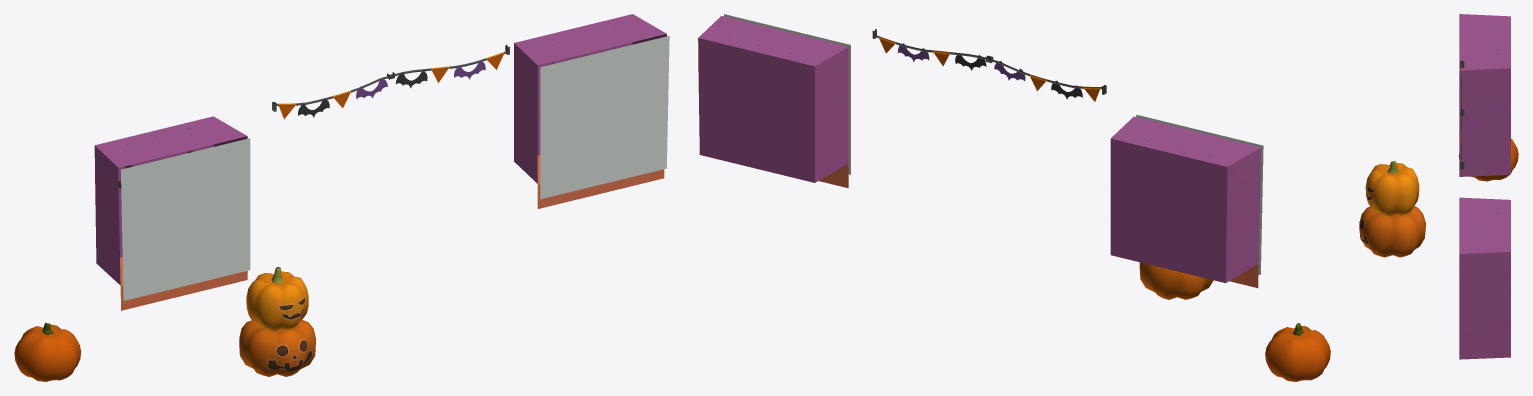
The model's file is shop-deco-halloween.glb.
3 renders of one model, left to right at view 1: azimuth 30°, elevation 25°; view 2: azimuth 150°, elevation 25°; view 3: azimuth 270°, elevation 25°, orthographic. The views are drawn at different scales.
Parts seen in each view (by area): view 1: StrcMarketA02HalloweenDeco_node2, StrcMarketA02HalloweenDeco_node1; view 2: StrcMarketA02HalloweenDeco_node1, StrcMarketA02HalloweenDeco_node2; view 3: StrcMarketA02HalloweenDeco_node1.
Part boxes in pixels (<box>): StrcMarketA02HalloweenDeco_node2: <box>121,35,669,300</box>; StrcMarketA02HalloweenDeco_node1: <box>14,14,666,381</box>; StrcMarketA02HalloweenDeco_node1: <box>698,16,1330,381</box>; StrcMarketA02HalloweenDeco_node2: <box>724,14,1263,274</box>; StrcMarketA02HalloweenDeco_node1: <box>1359,14,1518,359</box>.
Size of the model in its own units: 56.65 by 19.89 by 13.8.
2 materials, 1 textured.
